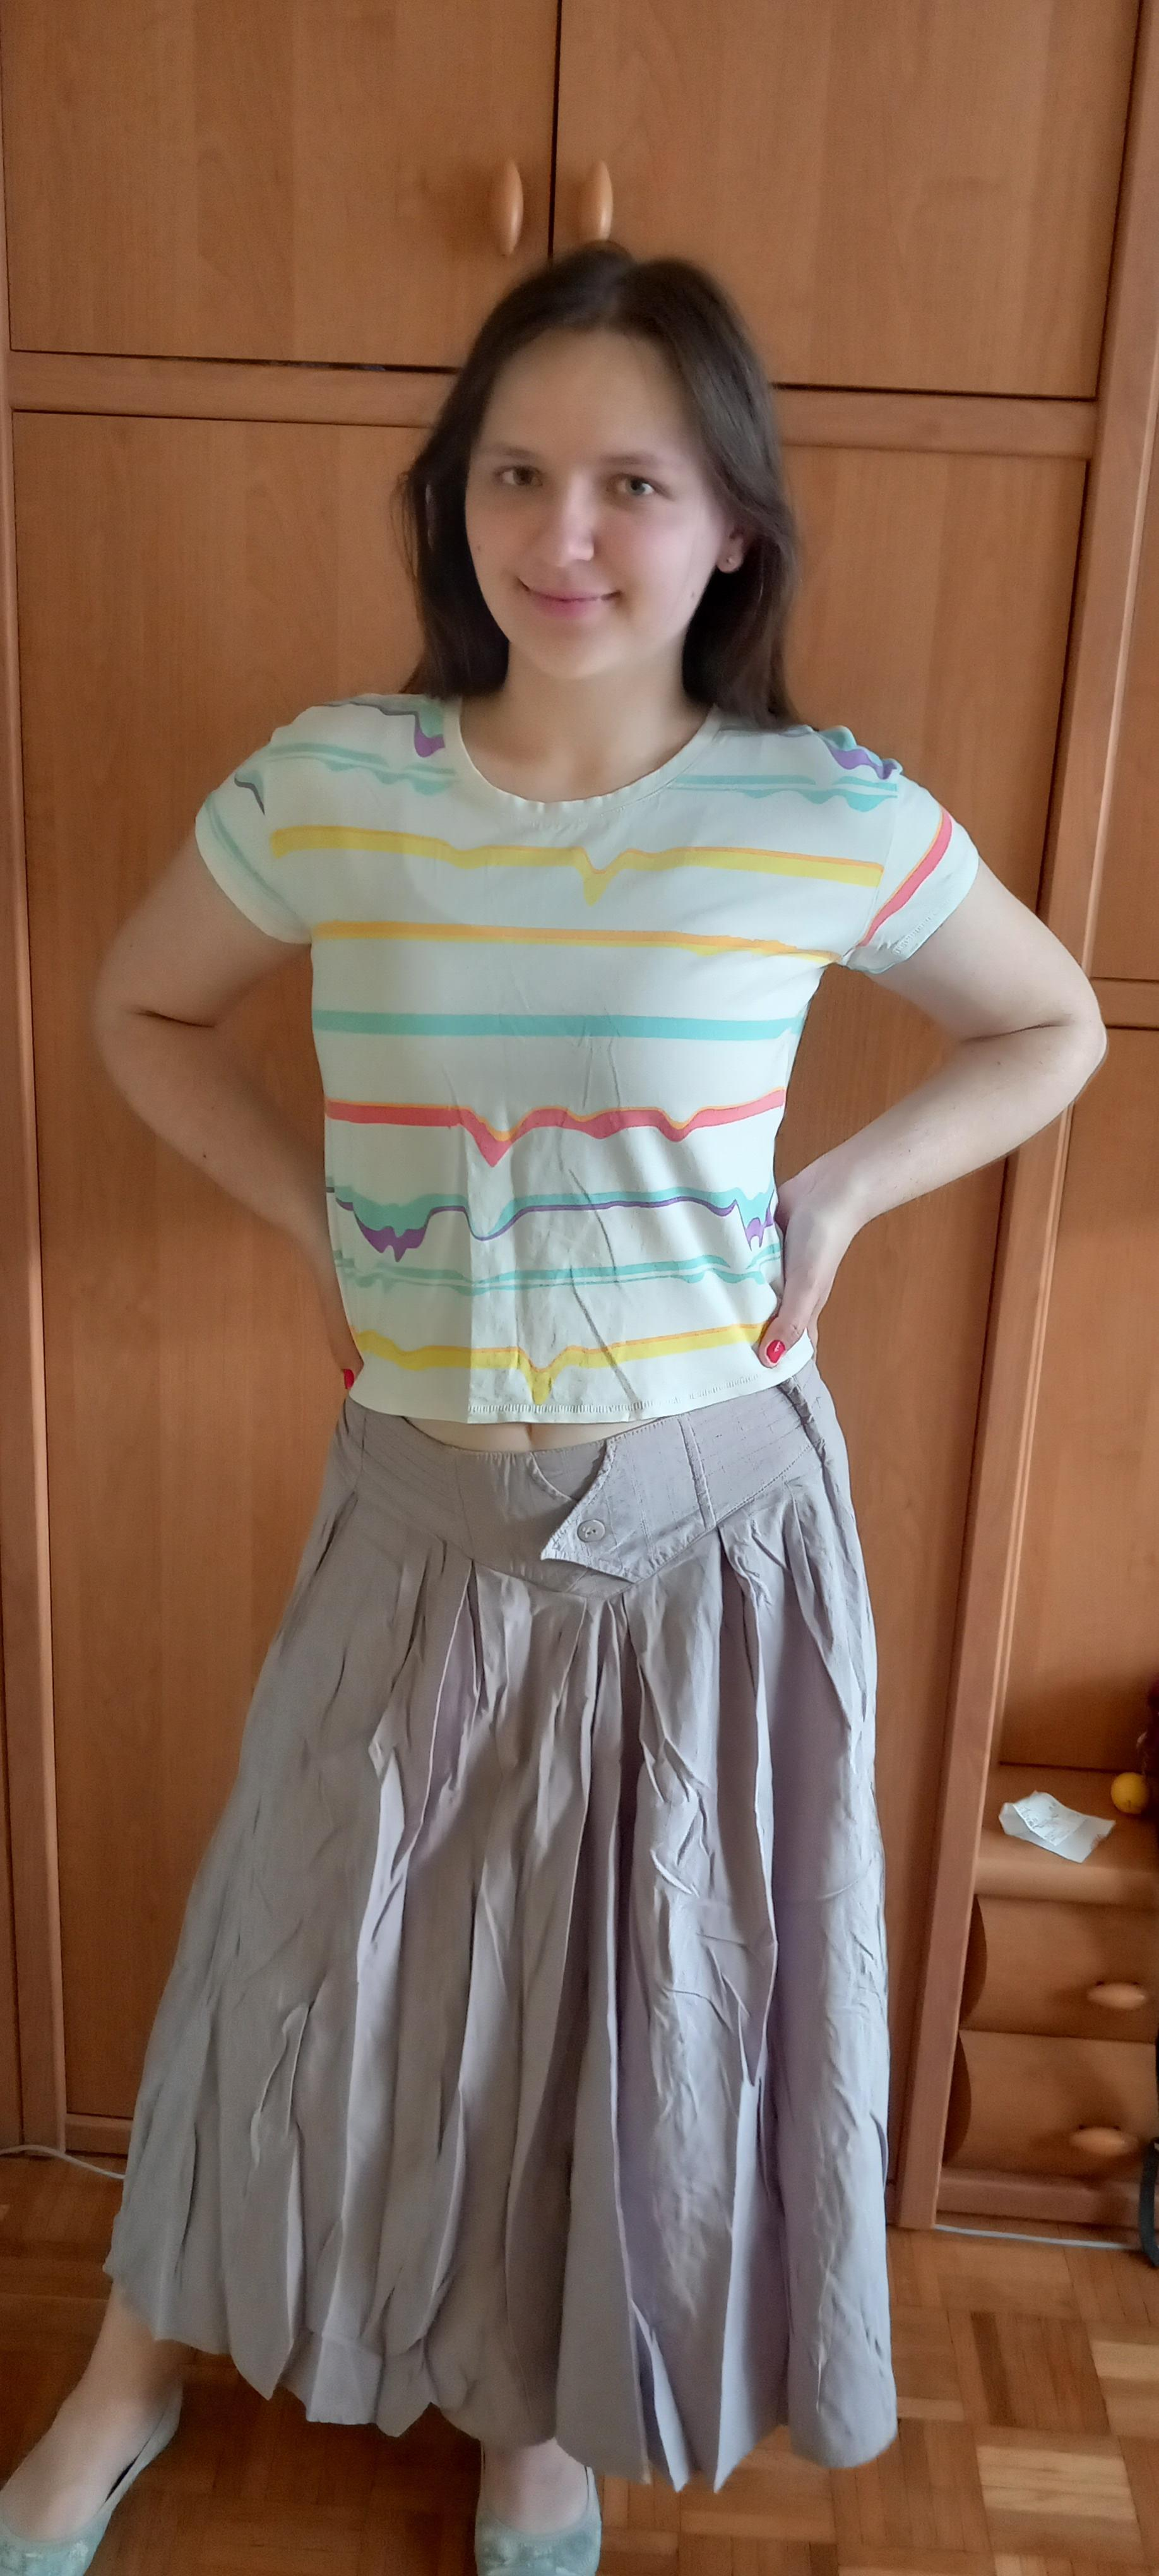Tshirt: (190, 687, 978, 1423)
skirt: (105, 1387, 901, 2497)
